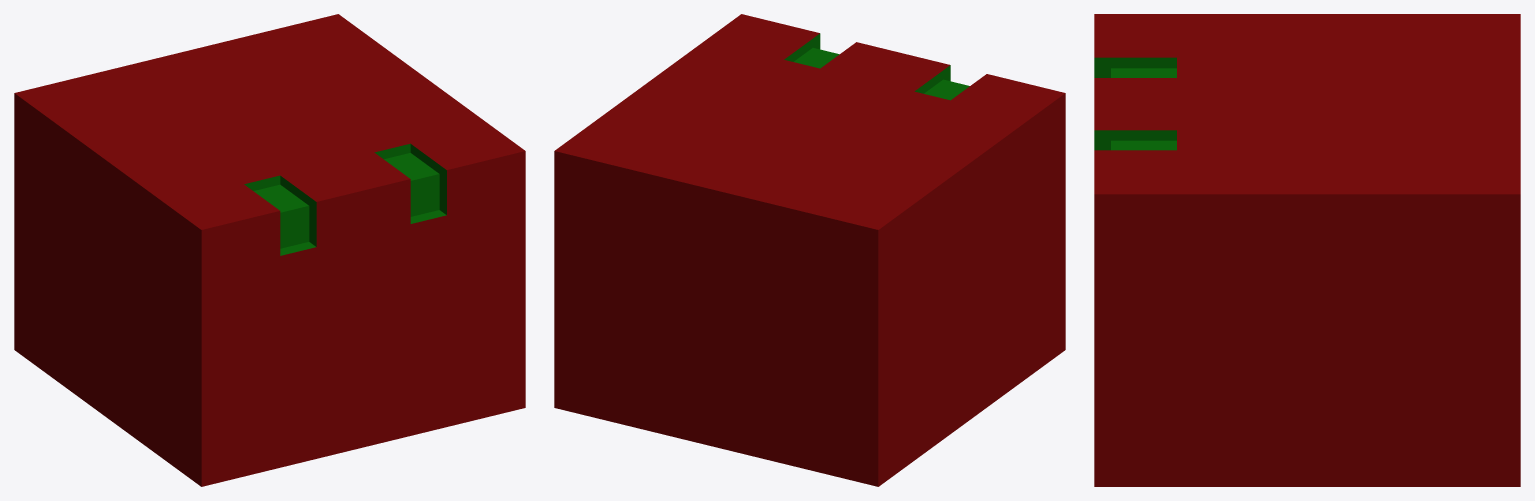
Rendered from TowerHeavyTop.fbx.
3 views of the same model, side by side, from view 1: azimuth 30°, elevation 25°; view 2: azimuth 150°, elevation 25°; view 3: azimuth 270°, elevation 25° (orthographic). The views are drawn at different scales.
Visible parts, largest first — view 1: TowerHeavyTop; view 2: TowerHeavyTop; view 3: TowerHeavyTop.
Boxes of the visible parts, bbox=[...] form: TowerHeavyTop: bbox=[14, 14, 525, 486]; TowerHeavyTop: bbox=[554, 14, 1065, 486]; TowerHeavyTop: bbox=[1094, 14, 1520, 486].
Bounding box in the file's own units: 0.5987 × 0.4535 × 0.5987.
